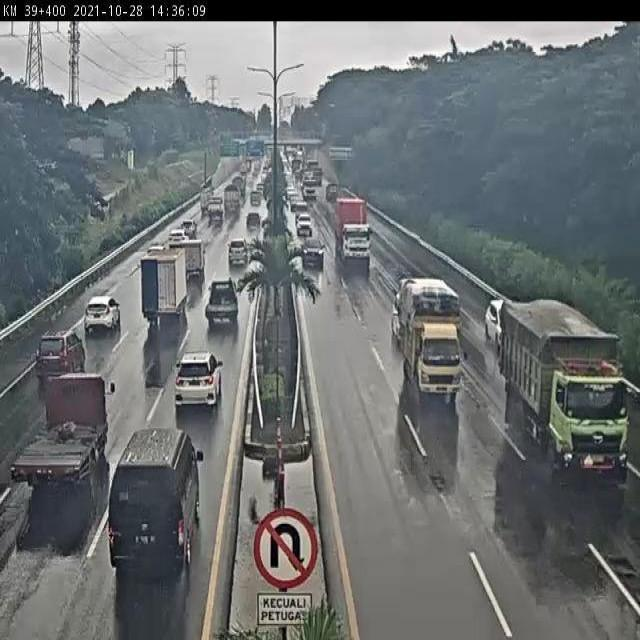truck: (502, 305, 627, 480), (10, 376, 109, 488), (397, 280, 462, 403), (140, 248, 185, 321), (335, 196, 374, 263)
